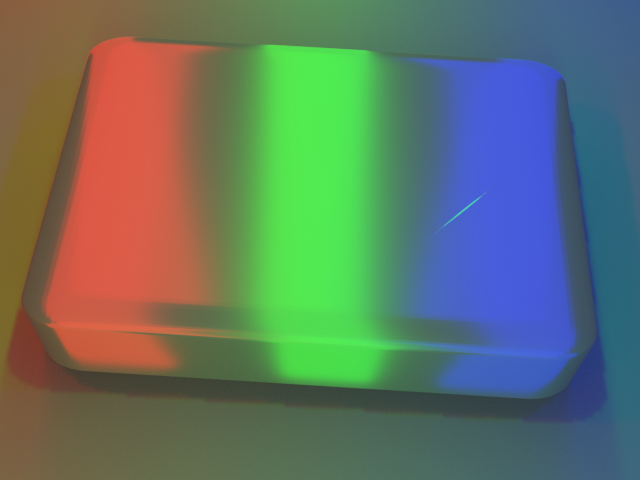scratch: (274, 91, 630, 335)
